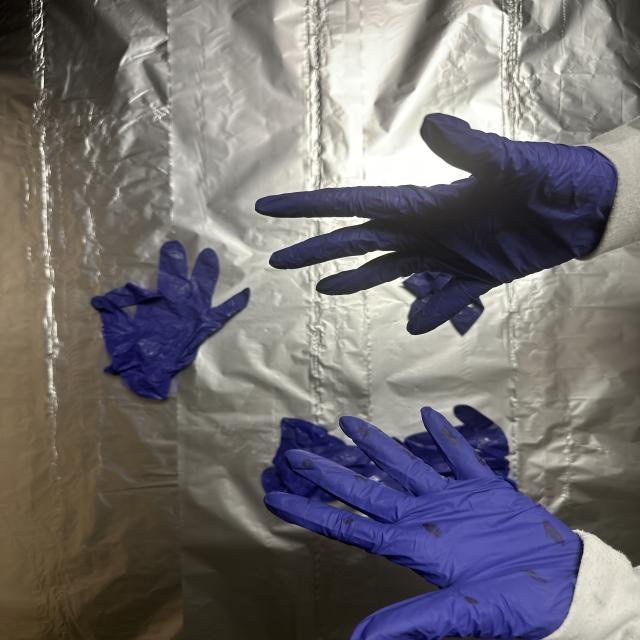gloves_contaminated: (256, 115, 617, 334), (265, 407, 584, 640)
